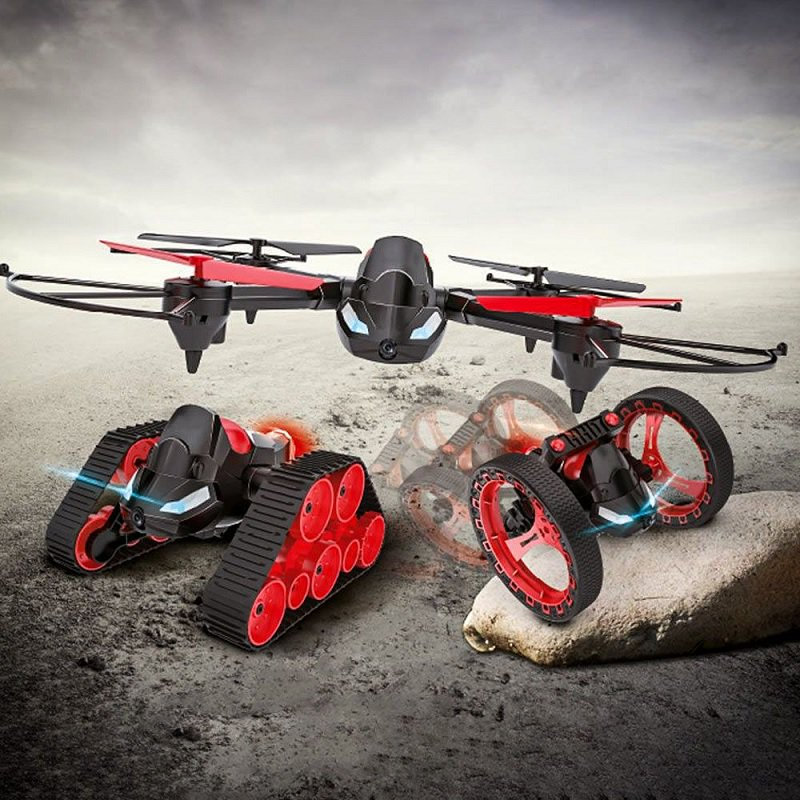drone: (2, 189, 800, 404)
